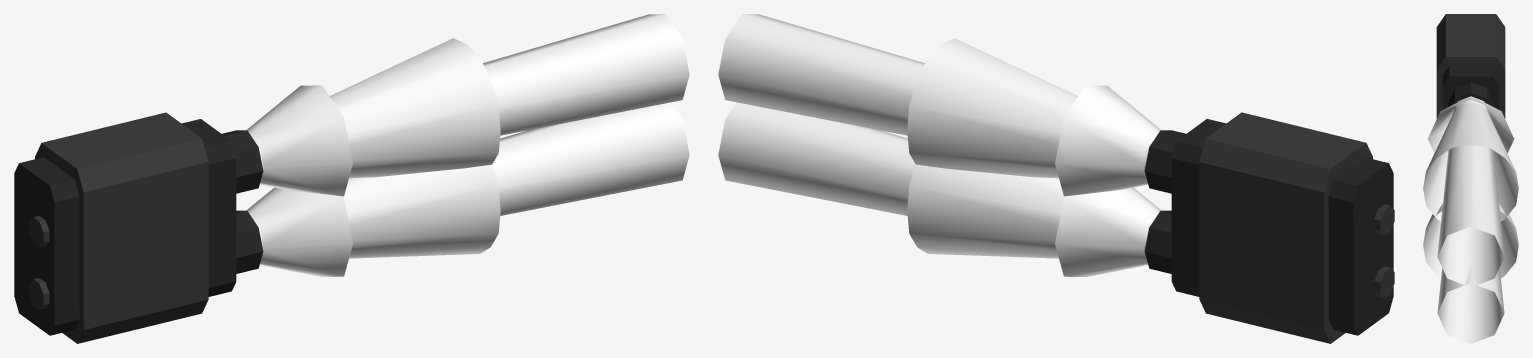
The model's file is Accessories_Flashlight_B.FBX.
The picture shows the model from 3 angles, left to right: view 1: azimuth 30°, elevation 25°; view 2: azimuth 150°, elevation 25°; view 3: azimuth 270°, elevation 25°; orthographic projection. The views are drawn at different scales.
Parts seen in each view (by area): view 1: Flashlight_Light, Accessories_Flashlight_B; view 2: Flashlight_Light, Accessories_Flashlight_B; view 3: Flashlight_Light, Accessories_Flashlight_B.
Boxes of the visible parts, left/top/right/bottom form: Flashlight_Light: left=246, top=14, right=689, bottom=277; Accessories_Flashlight_B: left=14, top=112, right=263, bottom=343; Flashlight_Light: left=718, top=14, right=1161, bottom=276; Accessories_Flashlight_B: left=1144, top=112, right=1394, bottom=343; Flashlight_Light: left=1423, top=96, right=1518, bottom=343; Accessories_Flashlight_B: left=1436, top=14, right=1505, bottom=118.
Bounding box in the file's own units: 146 × 44.47 × 26.93.
